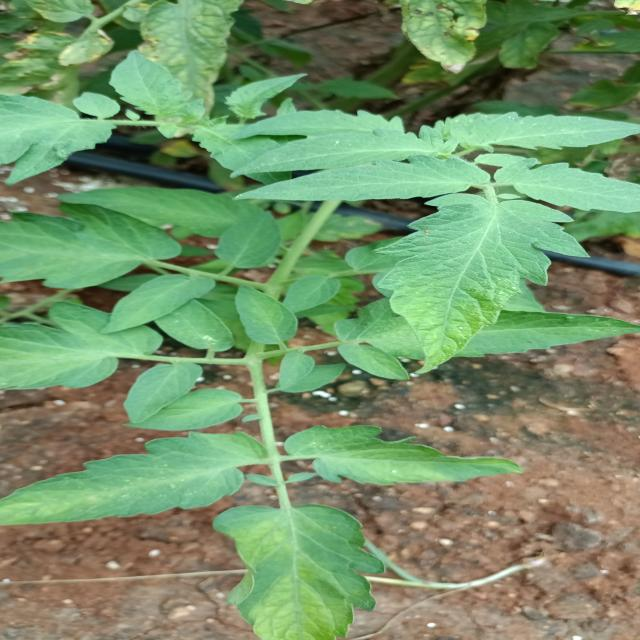Healthy Leaf: (358, 191, 586, 387), (207, 503, 417, 640), (1, 430, 275, 530), (288, 424, 531, 493), (231, 149, 484, 205), (92, 274, 229, 335), (211, 207, 290, 269), (230, 290, 314, 345)
